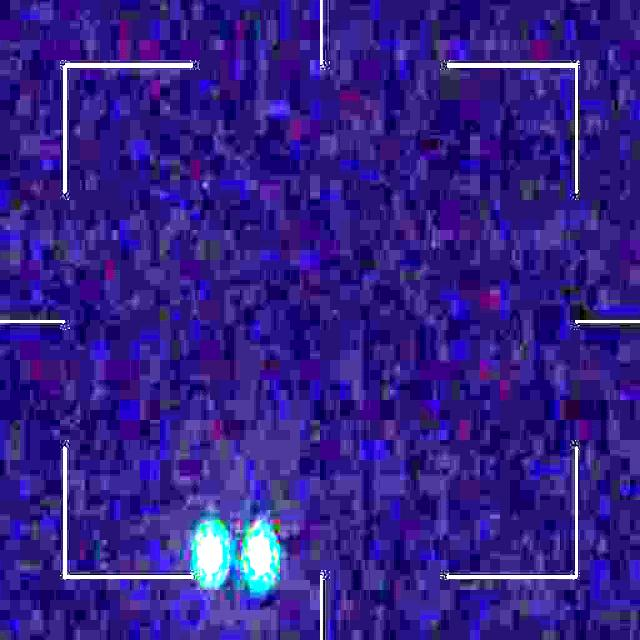bird: (198, 529, 275, 576)
